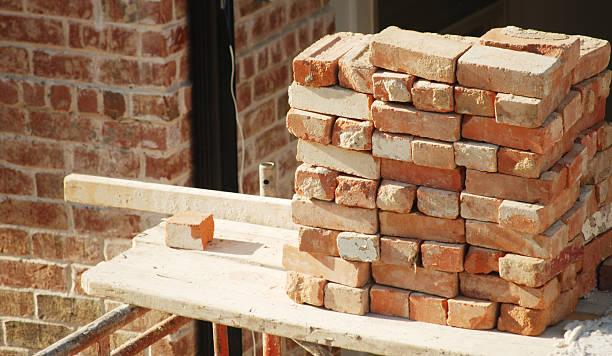Bricks: (453, 40, 568, 98), (479, 25, 584, 77), (368, 29, 468, 83), (535, 107, 610, 172), (467, 218, 570, 258), (461, 110, 563, 150), (368, 263, 462, 302), (295, 34, 361, 86), (372, 105, 461, 141), (466, 165, 550, 202), (335, 26, 381, 93), (380, 211, 470, 245), (298, 143, 380, 180), (281, 246, 355, 286), (458, 277, 561, 305), (296, 199, 377, 233), (288, 83, 372, 115), (566, 119, 610, 180), (379, 160, 465, 190), (533, 73, 574, 125), (547, 175, 584, 227), (292, 162, 332, 201), (415, 182, 457, 215), (338, 120, 375, 152), (503, 205, 547, 231), (289, 112, 331, 139), (326, 285, 367, 312), (500, 309, 542, 335), (449, 304, 493, 328), (375, 71, 410, 101), (455, 147, 497, 172), (455, 85, 493, 112), (426, 240, 462, 268), (335, 178, 372, 205), (370, 292, 408, 317), (503, 256, 548, 277), (413, 295, 445, 324), (463, 197, 500, 222), (301, 229, 338, 254), (414, 142, 454, 165), (290, 274, 321, 303), (344, 232, 376, 260), (560, 92, 583, 130), (419, 82, 450, 110), (377, 135, 414, 157), (502, 97, 533, 122), (505, 150, 536, 175), (548, 159, 569, 195), (469, 251, 501, 274), (384, 238, 414, 260), (382, 189, 413, 210)
